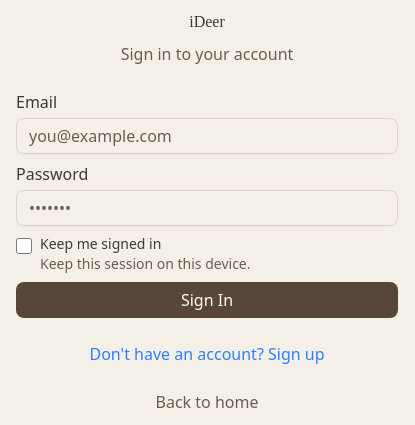
LoginPage › toggles back to login mode
Click the button "Don't have an account? Sign up" at coordinates (207, 354), box [90,342,324,366]
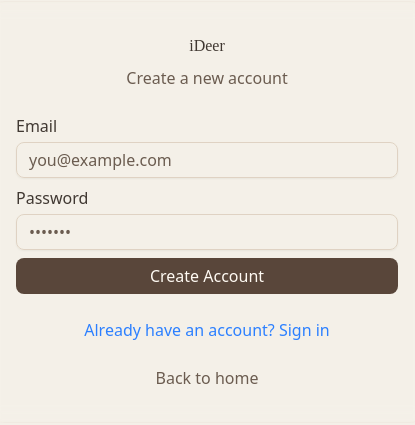
Click the button "Already have an account? Sign in" at coordinates (207, 330), box [84,318,330,342]
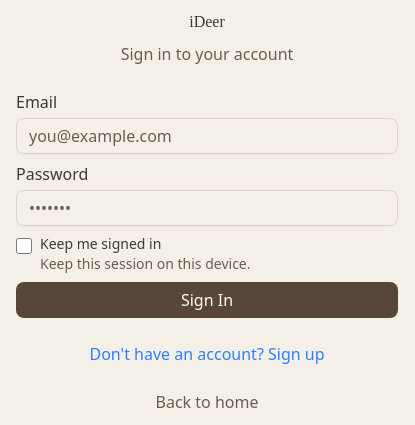
Check: the text "Sign in to your account" is shown, box [121,43,293,65]
Check: the button "Sign In" is shown, box [16,282,398,318]
